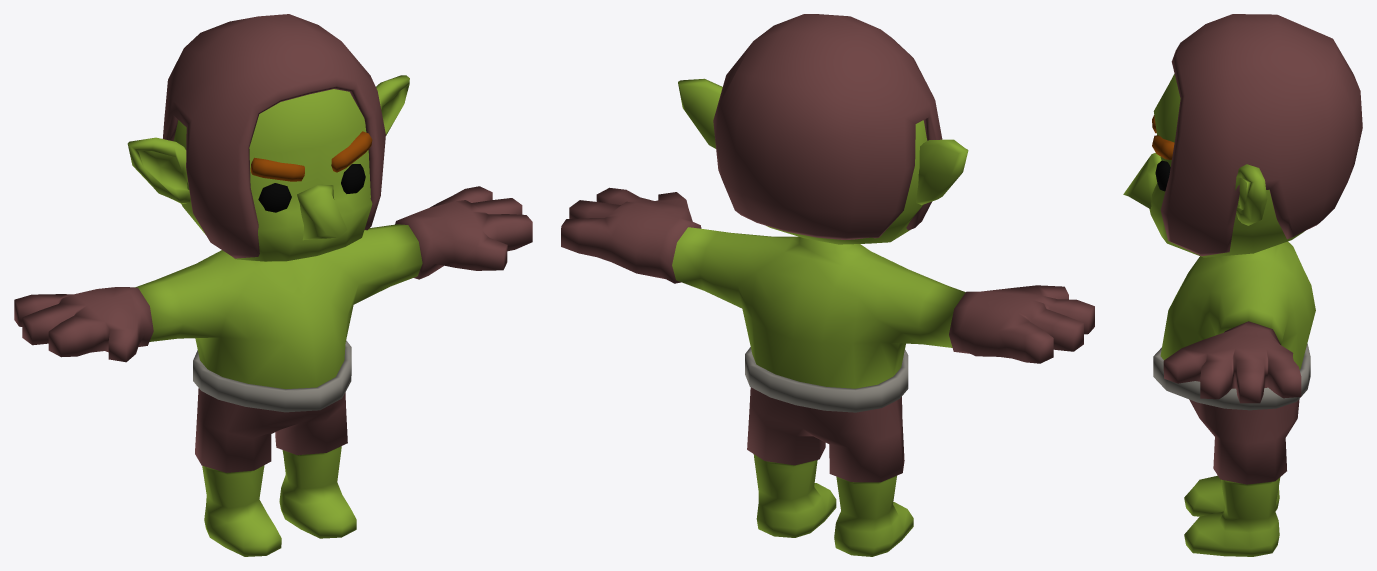
The model's file is Goblin.fbx.
3 views of the same model, side by side, from view 1: azimuth 30°, elevation 25°; view 2: azimuth 150°, elevation 25°; view 3: azimuth 270°, elevation 25° (orthographic). The views are drawn at different scales.
Visible parts, largest first — view 1: Goblin; view 2: Goblin; view 3: Goblin.
Part boxes in pixels (x1,y1,x2,y2): Goblin: (14, 14, 532, 556); Goblin: (561, 14, 1094, 556); Goblin: (1123, 14, 1362, 556).
Bounding box in the file's own units: 133 × 129 × 55.73.
